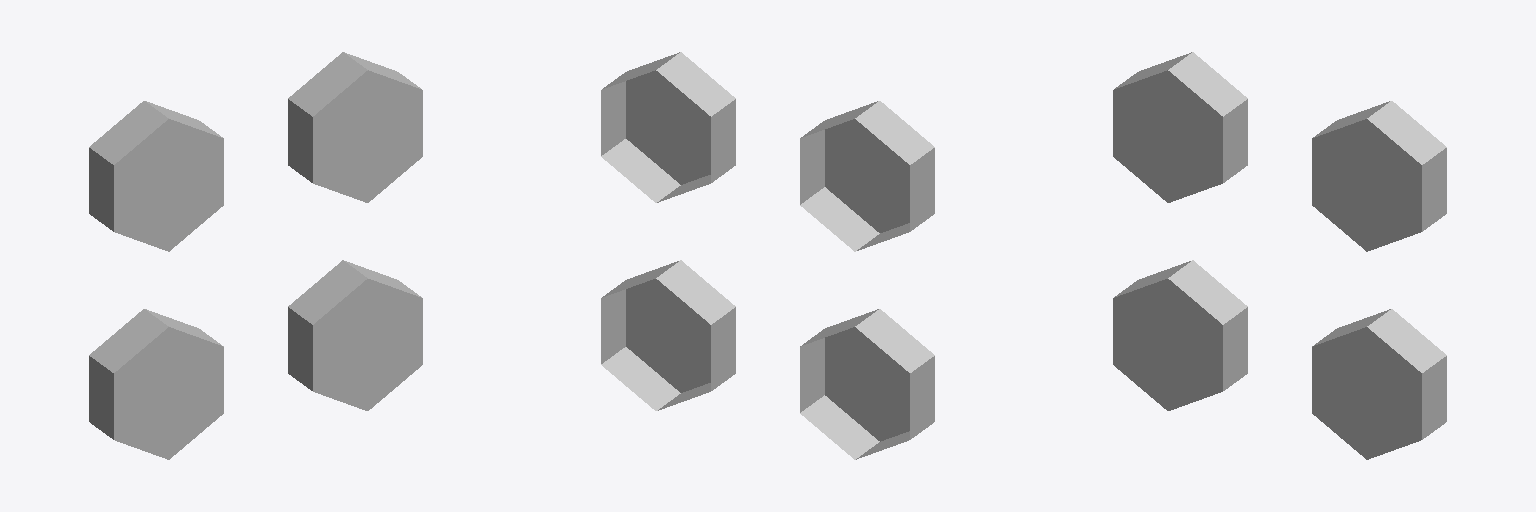
File: mego-brick-face-detail.obj
The picture shows the model from 3 angles: view 1: azimuth 30°, elevation 25°; view 2: azimuth 150°, elevation 25°; view 3: azimuth 330°, elevation 25°; orthographic projection.
Parts seen in each view (by area): view 1: mego-brick-face-detail; view 2: mego-brick-face-detail; view 3: mego-brick-face-detail.
Part boxes in pixels (x1,y1,x2,y2): mego-brick-face-detail: (89,52,422,459); mego-brick-face-detail: (601,52,934,459); mego-brick-face-detail: (1113,52,1446,459).
Bounding box in the file's own units: 0.6848 × 0.7226 × 0.0958.